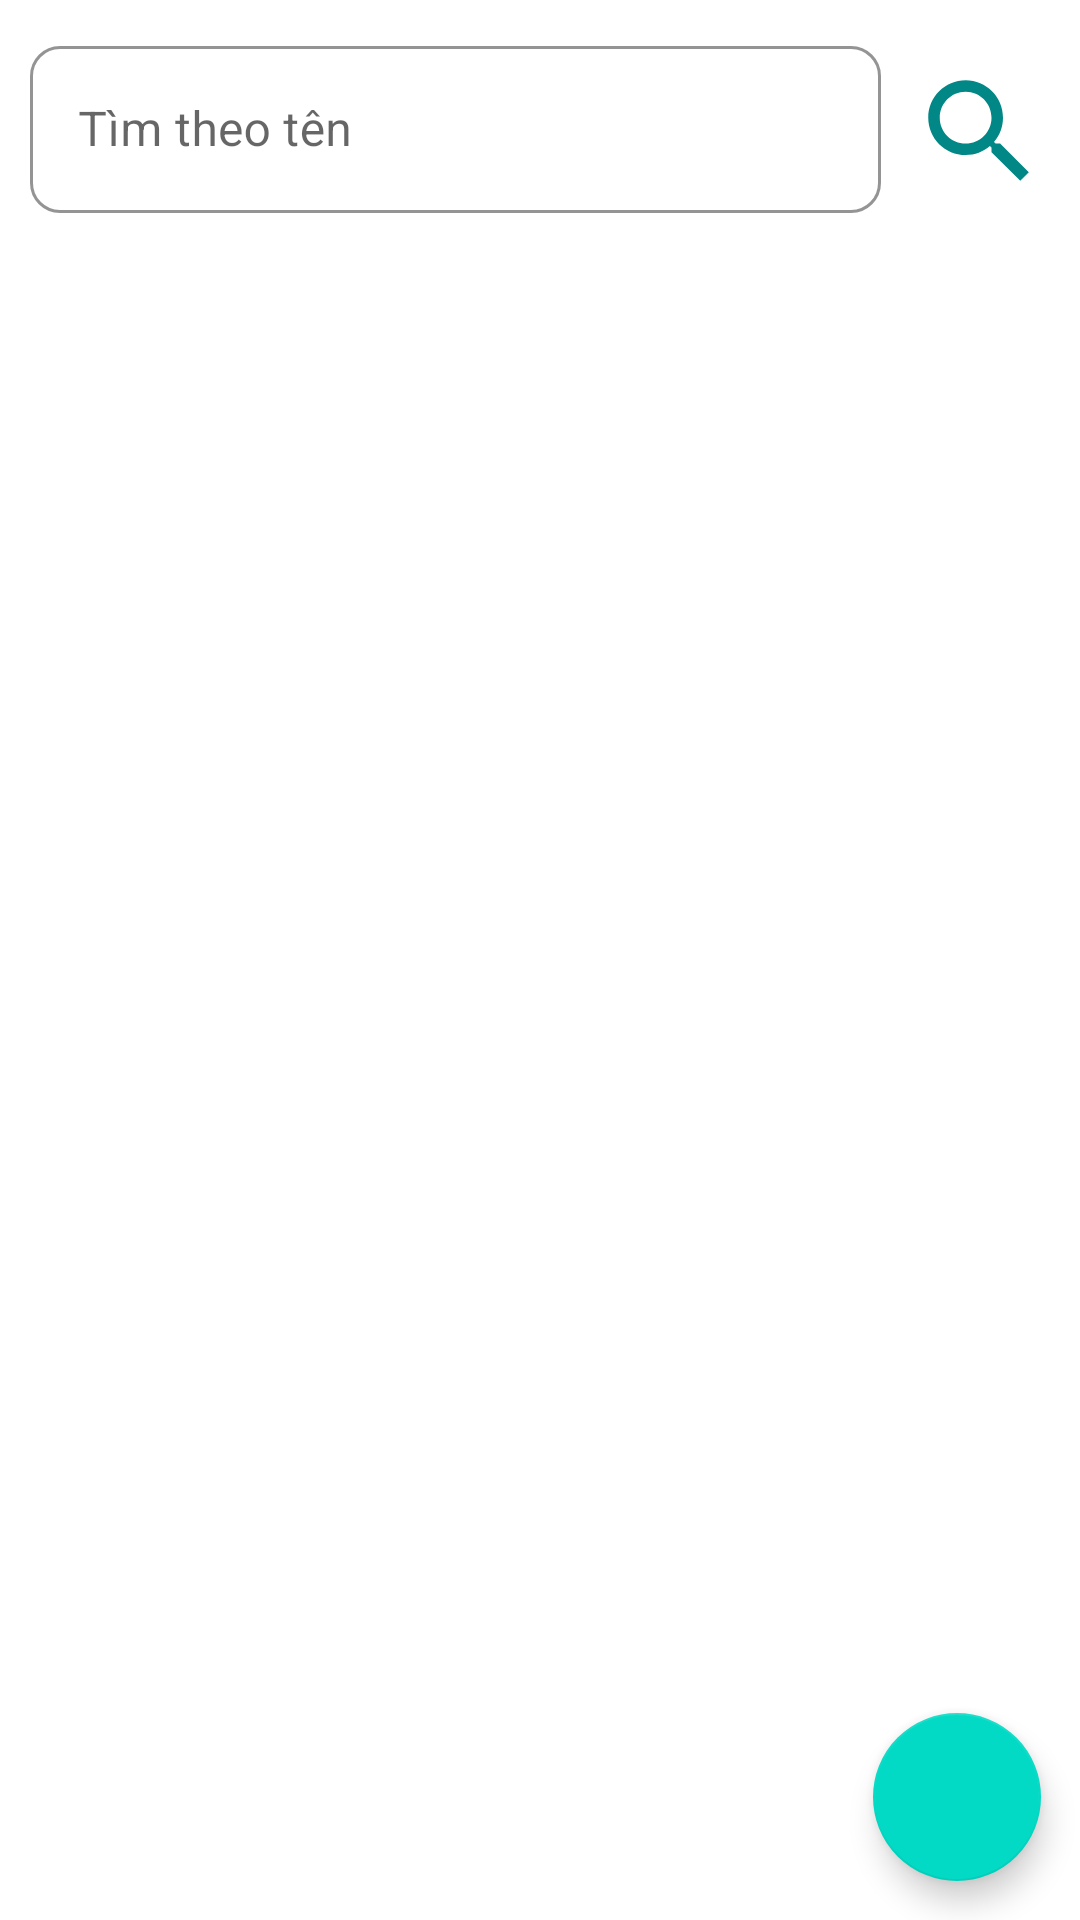

Icon click points for this 1080 × 1920 phone screenshot, format (x=x, y=y):
search: (x=978, y=130)
